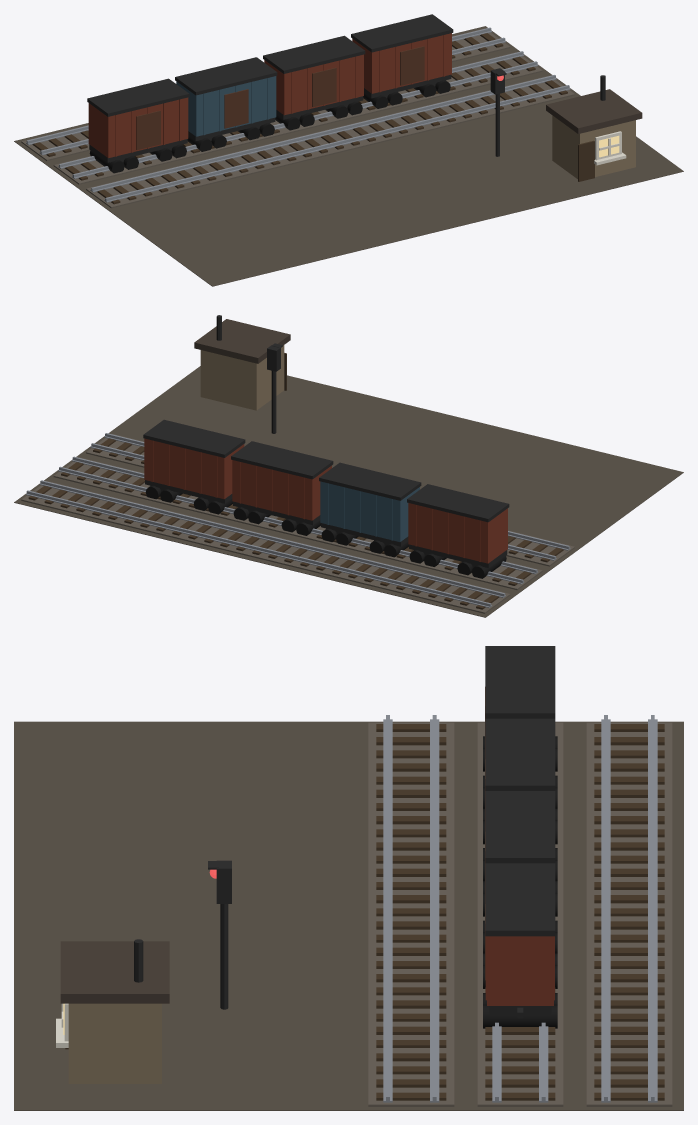
The model's file is railyard.glb.
3 renders of one model, top to bottom at view 1: azimuth 30°, elevation 25°; view 2: azimuth 150°, elevation 25°; view 3: azimuth 270°, elevation 25°, orthographic. The views are drawn at different scales.
Visible parts, largest first — view 1: part-ballast, part-chassis, part-bed, part-steel, part-wagon-0, part-sleeper, part-wagon-door, part-wheel, part-wagon-1, part-wagon-2, part-roof, part-hut (+2 smaller); view 2: part-ballast, part-chassis, part-bed, part-steel, part-wagon-0, part-sleeper, part-wagon-2, part-wagon-1, part-hut, part-wheel, part-roof; view 3: part-ballast, part-bed, part-sleeper, part-chassis, part-steel, part-hut, part-roof, part-wagon-0, part-wheel.
Boxes of the visible parts, x1,y1,x2,y2 form: part-ballast: [14, 26, 683, 286]; part-chassis: [87, 14, 605, 162]; part-bed: [21, 28, 574, 208]; part-steel: [26, 27, 570, 202]; part-wagon-0: [88, 33, 451, 157]; part-sleeper: [32, 33, 567, 204]; part-wagon-door: [136, 46, 424, 149]; part-wheel: [89, 80, 450, 173]; part-wagon-1: [176, 76, 276, 136]; part-wagon-2: [264, 54, 363, 115]; part-roof: [546, 89, 642, 133]; part-hut: [552, 115, 635, 178]; part-ballast: [14, 366, 683, 617]; part-chassis: [143, 315, 509, 567]; part-bed: [21, 433, 574, 613]; part-steel: [26, 433, 570, 607]; part-wagon-0: [144, 438, 507, 563]; part-sleeper: [28, 438, 563, 609]; part-wagon-2: [232, 460, 331, 520]; part-wagon-1: [320, 481, 419, 541]; part-hut: [200, 345, 284, 410]; part-wheel: [145, 485, 506, 578]; part-roof: [194, 319, 290, 363]; part-ballast: [14, 721, 683, 1110]; part-bed: [368, 722, 672, 1106]; part-sleeper: [376, 724, 664, 1100]; part-chassis: [134, 646, 555, 1018]; part-steel: [383, 715, 657, 1102]; part-hut: [68, 1003, 161, 1083]; part-roof: [60, 941, 169, 1003]; part-wagon-0: [485, 936, 554, 1005]; part-wheel: [483, 736, 557, 1028].
Size of the model in its own units: 118 by 20.55 by 86.
